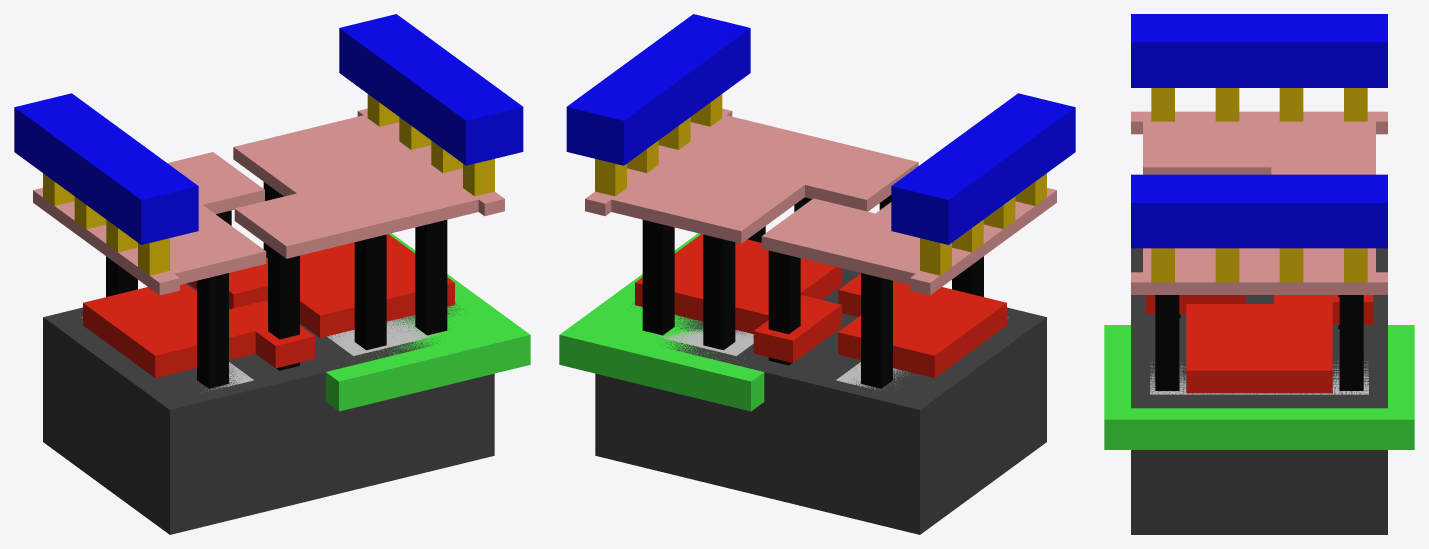
The model's file is sky130_fd_sc_hd__decap_4.obj.
3 views of the same model, side by side, from view 1: azimuth 30°, elevation 25°; view 2: azimuth 150°, elevation 25°; view 3: azimuth 270°, elevation 25° (orthographic).
Parts seen in each view (by area): view 1: subs, li, metal1, poly, licon, nwell, mcon, tap; view 2: subs, li, metal1, poly, licon, nwell, mcon, tap; view 3: metal1, subs, li, nwell, poly, mcon, licon, tap.
Part boxes in pixels (bbox=[...]): subs: bbox=[43, 283, 494, 534]; li: bbox=[33, 108, 504, 295]; metal1: bbox=[14, 14, 523, 244]; poly: bbox=[83, 234, 454, 378]; licon: bbox=[106, 182, 447, 388]; nwell: bbox=[325, 233, 530, 411]; mcon: bbox=[43, 94, 494, 275]; tap: bbox=[327, 315, 440, 355]; subs: bbox=[595, 268, 1046, 534]; li: bbox=[585, 108, 1056, 295]; metal1: bbox=[566, 14, 1075, 244]; poly: bbox=[635, 234, 1006, 378]; licon: bbox=[642, 195, 983, 388]; nwell: bbox=[559, 233, 764, 411]; mcon: bbox=[595, 94, 1046, 275]; tap: bbox=[658, 329, 753, 355]; metal1: bbox=[1131, 14, 1387, 248]; subs: bbox=[1131, 248, 1387, 534]; li: bbox=[1131, 111, 1387, 294]; nwell: bbox=[1104, 325, 1414, 449]; poly: bbox=[1145, 295, 1373, 393]; mcon: bbox=[1151, 88, 1367, 282]; licon: bbox=[1155, 295, 1363, 390]; tap: bbox=[1150, 361, 1368, 394].
Bounding box in the file's own units: 3.2 × 2.74 × 2.22.
